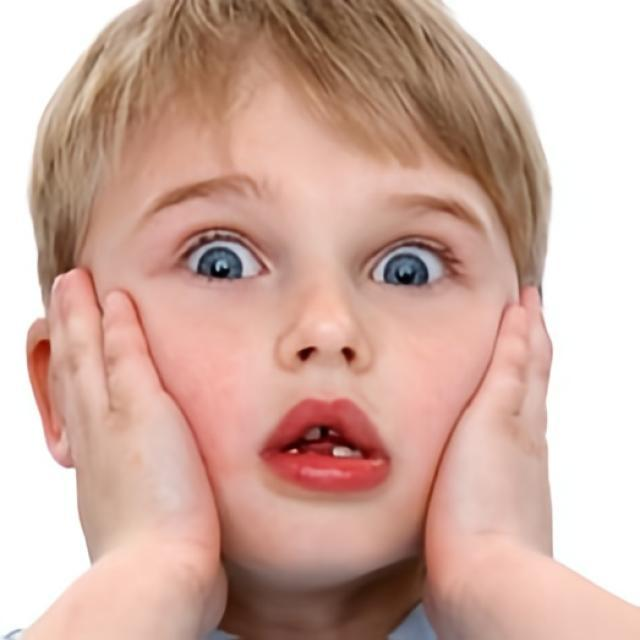surprise: (89, 29, 520, 592)
